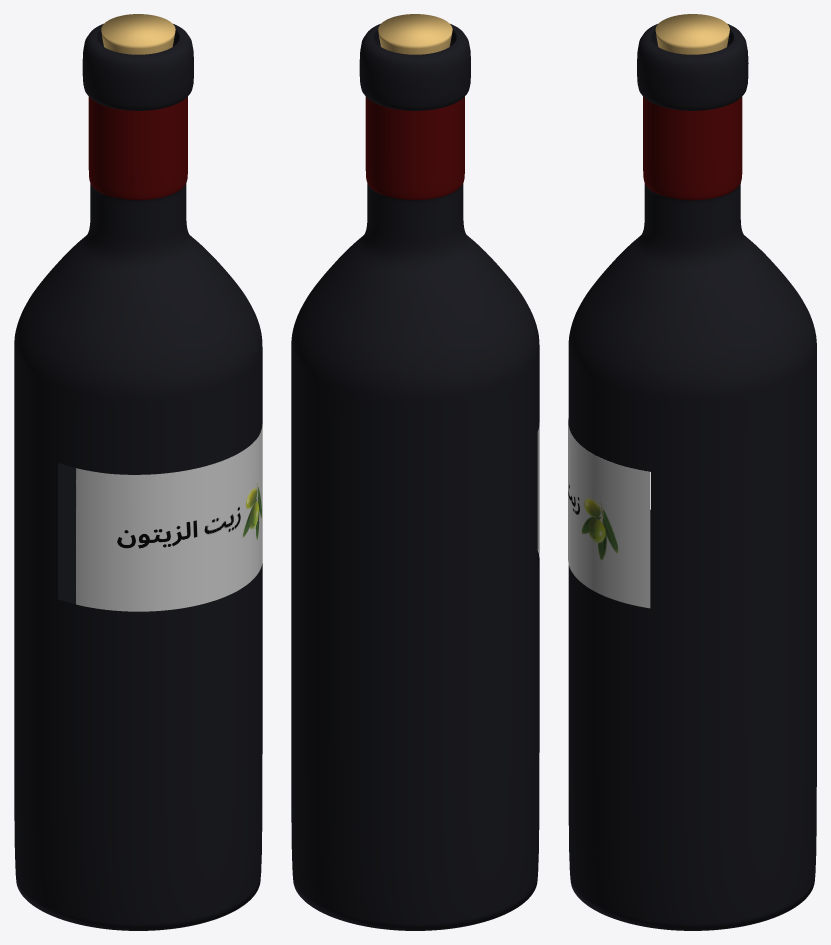
The model's file is zitzitoun.fbx.
3 views of the same model, side by side, from view 1: azimuth 30°, elevation 25°; view 2: azimuth 150°, elevation 25°; view 3: azimuth 270°, elevation 25° (orthographic).
Visible parts, largest first — view 1: Cylinder_002; view 2: Cylinder_002; view 3: Cylinder_002.
Boxes of the visible parts, x1,y1,x2,y2 form: Cylinder_002: (14,14,262,930); Cylinder_002: (291,14,539,930); Cylinder_002: (568,14,816,930).
Size of the model in its own units: 174 by 655 by 174.
